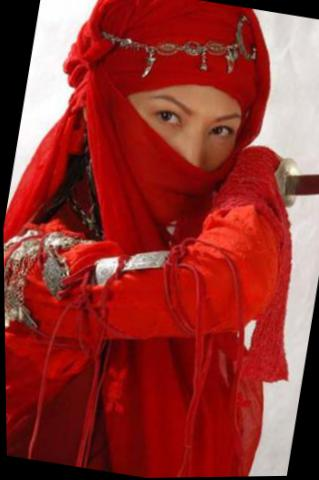WRONG: (118, 83, 248, 238)
